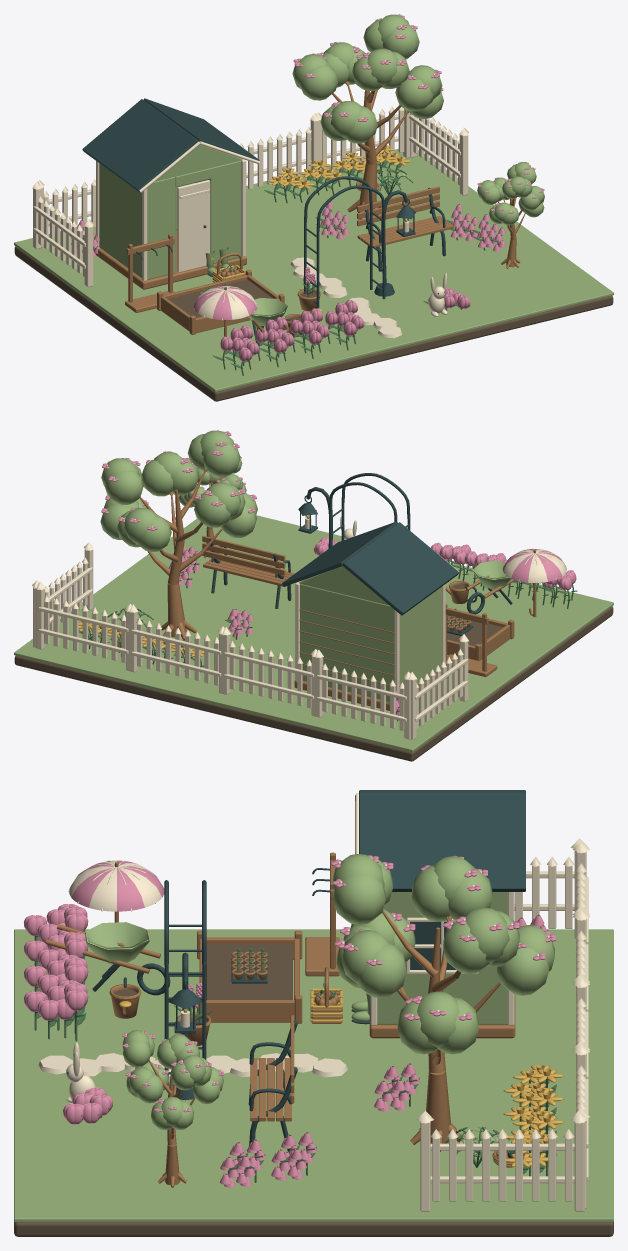
Rendered from almanac-gardens-spring-garden-scene-c8cbebe3-starter-scene__22097.glb.
The picture shows the model from 3 angles, top to bottom: view 1: azimuth 30°, elevation 25°; view 2: azimuth 150°, elevation 25°; view 3: azimuth 270°, elevation 25°; orthographic projection. The views are drawn at different scales.
Parts seen in each view (by area): view 1: 000-spring-ground/spring-ground-sage, 007-potting-shed/potting-shed-sage, 008-blossom-orchard-tree/blossom-orchard-tree-sage, 007-potting-shed/potting-shed-iron, 000-spring-ground/spring-ground-soil, 007-potting-shed/potting-shed-ivory, 005-picket-fence/picket-fence-ivory, 006-picket-fence/picket-fence-ivory, 009-blossom-sapling/blossom-sapling-sage, 011-garden-bench/garden-bench-oak, 003-picket-fence/picket-fence-ivory, 010-rose-arch/rose-arch-iron (+25 smaller); view 2: 000-spring-ground/spring-ground-sage, 007-potting-shed/potting-shed-sage, 008-blossom-orchard-tree/blossom-orchard-tree-sage, 007-potting-shed/potting-shed-iron, 000-spring-ground/spring-ground-soil, 001-picket-fence/picket-fence-ivory, 004-picket-fence/picket-fence-ivory, 003-picket-fence/picket-fence-ivory, 002-picket-fence/picket-fence-ivory, 005-picket-fence/picket-fence-ivory, 008-blossom-orchard-tree/blossom-orchard-tree-bark, 011-garden-bench/garden-bench-oak (+16 smaller); view 3: 000-spring-ground/spring-ground-sage, 008-blossom-orchard-tree/blossom-orchard-tree-sage, 007-potting-shed/potting-shed-iron, 000-spring-ground/spring-ground-soil, 006-picket-fence/picket-fence-ivory, 009-blossom-sapling/blossom-sapling-sage, 007-potting-shed/potting-shed-sage, 012-raised-bed/raised-bed-soil, 008-blossom-orchard-tree/blossom-orchard-tree-bark, 012-raised-bed/raised-bed-oak, 011-garden-bench/garden-bench-oak, 005-picket-fence/picket-fence-ivory (+37 smaller).
Boxes of the visible parts, <box> form: 000-spring-ground/spring-ground-sage: <box>14,149,613,392</box>; 007-potting-shed/potting-shed-sage: <box>99,144,242,279</box>; 008-blossom-orchard-tree/blossom-orchard-tree-sage: <box>292,14,443,143</box>; 007-potting-shed/potting-shed-iron: <box>82,98,259,228</box>; 000-spring-ground/spring-ground-soil: <box>14,246,613,401</box>; 007-potting-shed/potting-shed-ivory: <box>96,141,259,281</box>; 005-picket-fence/picket-fence-ivory: <box>32,181,93,287</box>; 006-picket-fence/picket-fence-ivory: <box>409,113,468,195</box>; 009-blossom-sapling/blossom-sapling-sage: <box>477,162,544,225</box>; 011-garden-bench/garden-bench-oak: <box>357,186,453,247</box>; 003-picket-fence/picket-fence-ivory: <box>240,113,318,189</box>; 010-rose-arch/rose-arch-iron: <box>304,176,385,308</box>; 000-spring-ground/spring-ground-sage: <box>14,515,613,752</box>; 007-potting-shed/potting-shed-sage: <box>299,566,442,701</box>; 008-blossom-orchard-tree/blossom-orchard-tree-sage: <box>100,430,257,551</box>; 007-potting-shed/potting-shed-iron: <box>282,521,458,615</box>; 000-spring-ground/spring-ground-soil: <box>14,606,613,761</box>; 001-picket-fence/picket-fence-ivory: <box>315,649,410,739</box>; 004-picket-fence/picket-fence-ivory: <box>36,581,131,671</box>; 003-picket-fence/picket-fence-ivory: <box>129,604,224,693</box>; 002-picket-fence/picket-fence-ivory: <box>222,627,317,716</box>; 005-picket-fence/picket-fence-ivory: <box>409,634,468,739</box>; 008-blossom-orchard-tree/blossom-orchard-tree-bark: <box>139,468,221,640</box>; 011-garden-bench/garden-bench-oak: <box>202,535,294,586</box>; 000-spring-ground/spring-ground-sage: <box>14,929,613,1222</box>; 008-blossom-orchard-tree/blossom-orchard-tree-sage: <box>332,854,554,1054</box>; 007-potting-shed/potting-shed-iron: <box>359,790,525,891</box>; 000-spring-ground/spring-ground-soil: <box>14,1222,613,1236</box>; 006-picket-fence/picket-fence-ivory: <box>416,1110,588,1211</box>; 009-blossom-sapling/blossom-sapling-sage: <box>122,1030,223,1129</box>; 007-potting-shed/potting-shed-sage: <box>377,892,507,1024</box>; 012-raised-bed/raised-bed-soil: <box>206,944,292,999</box>; 008-blossom-orchard-tree/blossom-orchard-tree-bark: <box>382,909,500,1151</box>; 012-raised-bed/raised-bed-oak: <box>197,930,302,1023</box>; 011-garden-bench/garden-bench-oak: <box>250,1015,294,1121</box>; 005-picket-fence/picket-fence-ivory: <box>514,838,588,938</box>.
Size of the model in its own units: 8 by 3.82 by 7.
